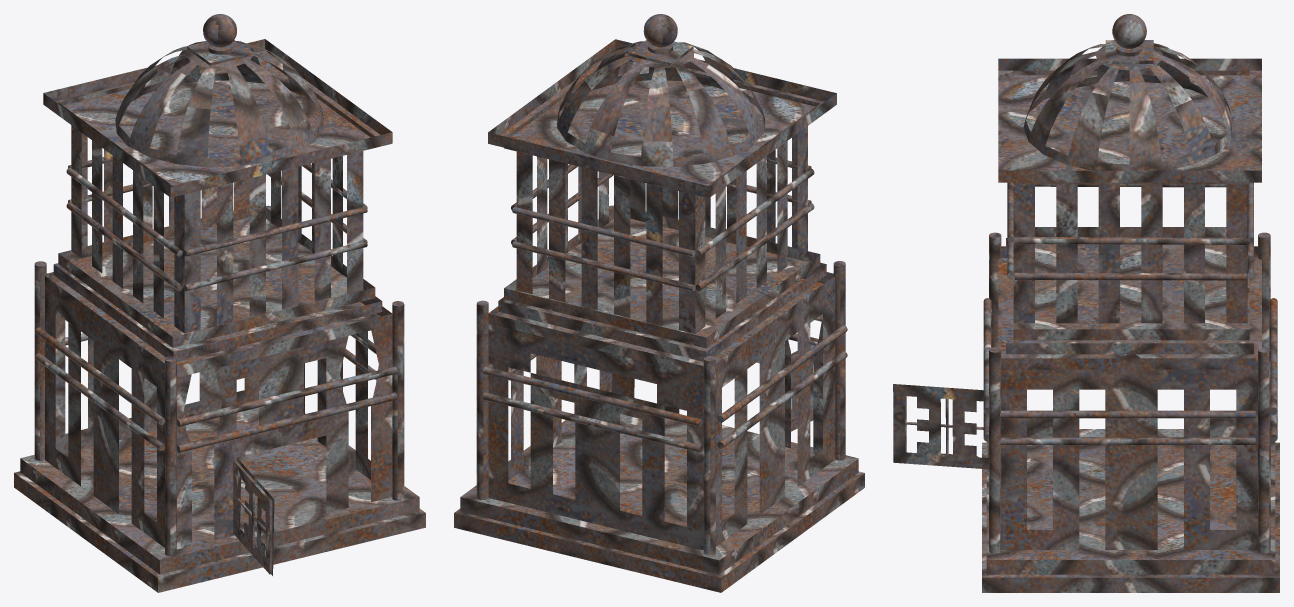
File: dog cage with 2nd texture .fbx
3 views of the same model, side by side, from view 1: azimuth 30°, elevation 25°; view 2: azimuth 150°, elevation 25°; view 3: azimuth 270°, elevation 25° (orthographic). The views are drawn at different scales.
Parts seen in each view (by area): view 1: cage_base1; view 2: cage_base1; view 3: cage_base1.
Part boxes in pixels (bbox=[...]): cage_base1: bbox=[14, 14, 425, 592]; cage_base1: bbox=[454, 14, 864, 592]; cage_base1: bbox=[893, 14, 1279, 592].
Bounding box in the file's own units: 3.65 × 6.42 × 4.41.
Materials: 1 (1 with a texture image).
